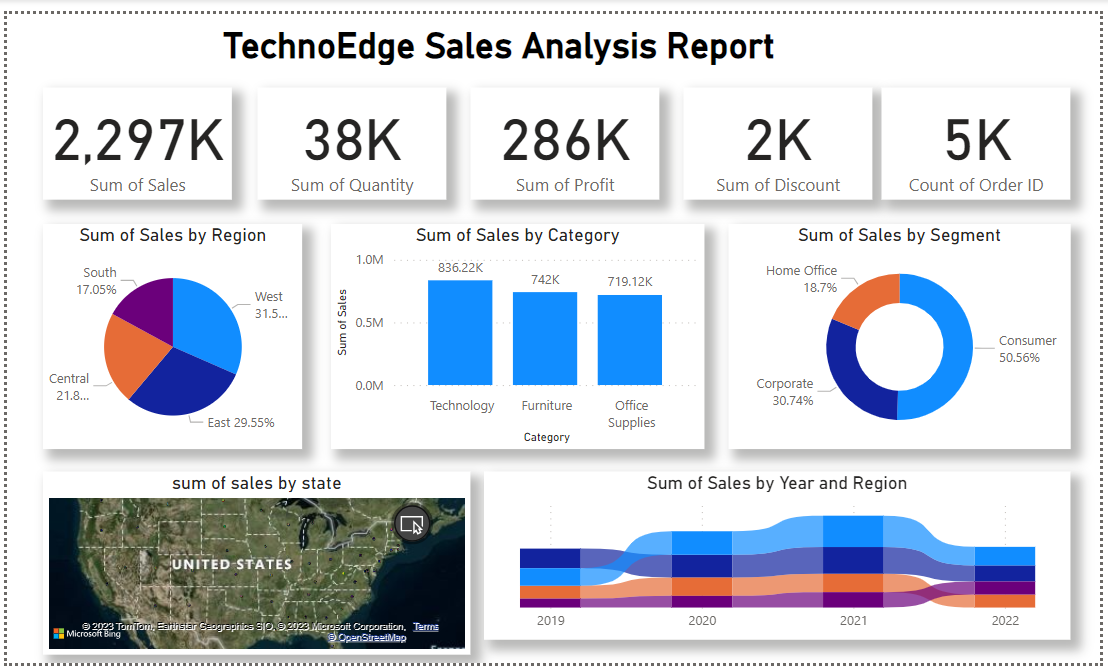

The page's visual inventory and layout, read from the dashboard file:
{"tool":"powerbi","page":{"name":"Page 1","canvas":[1027,609],"ordinal":0},"visuals":[{"type":"columnChart","fields":{"Category":["CombinedData.Category"],"Y":["CombinedData.Sales"]},"box":[304.2,197.2,350.7,211.3],"z":0},{"type":"pieChart","fields":{"Category":["CombinedData.Region"],"Y":["CombinedData.Sales"]},"box":[33.8,197.2,243.7,211.3],"z":1000},{"type":"donutChart","fields":{"Category":["CombinedData.Segment"],"Y":["CombinedData.Sales"]},"box":[677.5,197.2,321.1,211.3],"z":2000},{"type":"map","title":"sum of sales by state","fields":{"Category":["CombinedData.State"],"Series":["CombinedData.Sales"]},"box":[33.8,429.6,401.4,171.8],"z":3000},{"type":"textbox","title":"TechnoEdge Sales Analysis Report","box":[156.3,9.9,611.3,46.5],"z":4000},{"type":"card","fields":{"Values":["CombinedData.Sales"]},"box":[33.8,69,177.5,105.6],"z":5000},{"type":"card","fields":{"Values":["CombinedData.Quantity"]},"box":[235.2,69,177.5,105.6],"z":6000},{"type":"card","fields":{"Values":["CombinedData.Profit"]},"box":[435.2,69,177.5,105.6],"z":7000},{"type":"card","fields":{"Values":["CombinedData.Discount"]},"box":[635.2,69,177.5,105.6],"z":8000},{"type":"card","fields":{"Values":["CombinedData.Order ID"]},"box":[821.1,69,177.5,105.6],"z":9000},{"type":"ribbonChart","fields":{"Category":["CombinedData.Order Date.Variation.Date Hierarchy.Year","CombinedData.Order Date.Variation.Date Hierarchy.Quarter","CombinedData.Order Date.Variation.Date Hierarchy.Month","CombinedData.Order Date.Variation.Date Hierarchy.Day"],"Y":["CombinedData.Sales"],"Series":["CombinedData.Region"]},"box":[447.9,429.6,550.7,157.7],"z":10000}]}

Visuals, with their boxes in screenshot pixels (x1, y1, x2, y2), scaled from the page's 1027x609 canvas onto the 1108x670 screenshot:
columnChart - CombinedData.Category x CombinedData.Sales: pyautogui.locateOnScreen(328, 217, 707, 449)
pieChart - CombinedData.Region x CombinedData.Sales: pyautogui.locateOnScreen(36, 217, 299, 449)
donutChart - CombinedData.Segment x CombinedData.Sales: pyautogui.locateOnScreen(731, 217, 1077, 449)
"sum of sales by state" map: pyautogui.locateOnScreen(36, 473, 470, 662)
"TechnoEdge Sales Analysis Report" textbox: pyautogui.locateOnScreen(169, 11, 828, 62)
card - CombinedData.Sales: pyautogui.locateOnScreen(36, 76, 228, 192)
card - CombinedData.Quantity: pyautogui.locateOnScreen(254, 76, 445, 192)
card - CombinedData.Profit: pyautogui.locateOnScreen(470, 76, 661, 192)
card - CombinedData.Discount: pyautogui.locateOnScreen(685, 76, 877, 192)
card - CombinedData.Order ID: pyautogui.locateOnScreen(886, 76, 1077, 192)
ribbonChart - CombinedData.Order Date.Variation.Date Hierarchy.Year x CombinedData.Order Date.Variation.Date Hierarchy.Quarter: pyautogui.locateOnScreen(483, 473, 1077, 646)
